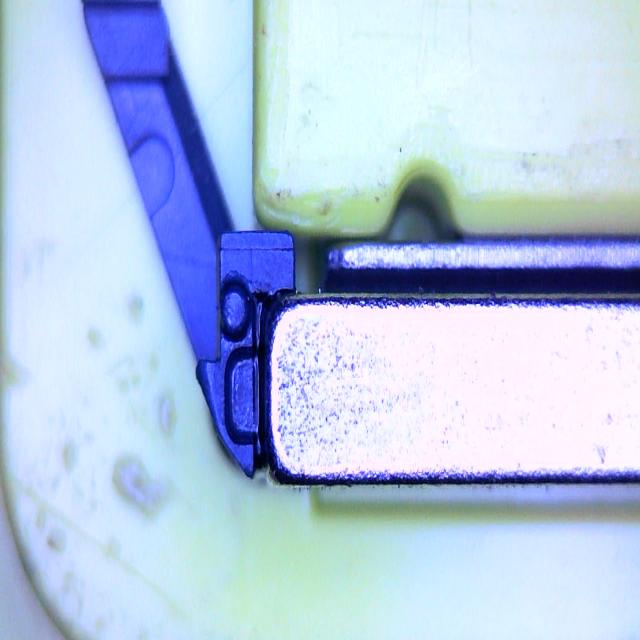good: (224, 344, 262, 449)
